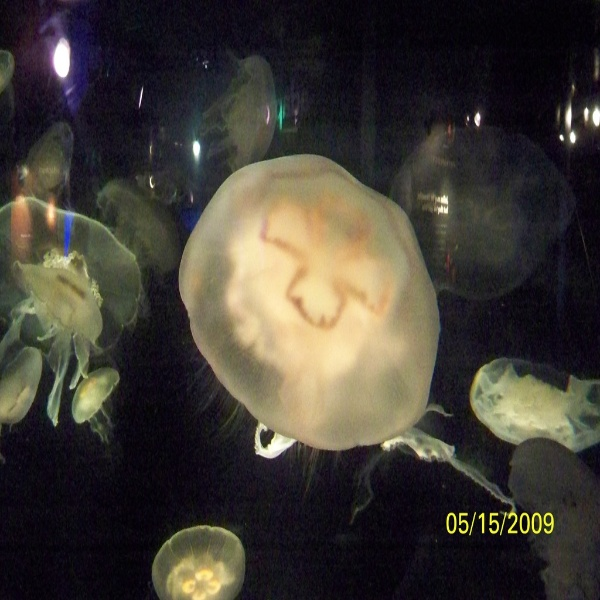Jellyfish: (173, 151, 450, 512), (0, 197, 138, 430), (400, 117, 570, 296), (469, 352, 599, 452), (202, 55, 278, 175), (152, 527, 248, 599), (16, 122, 71, 197), (71, 368, 118, 449), (0, 348, 45, 427)
